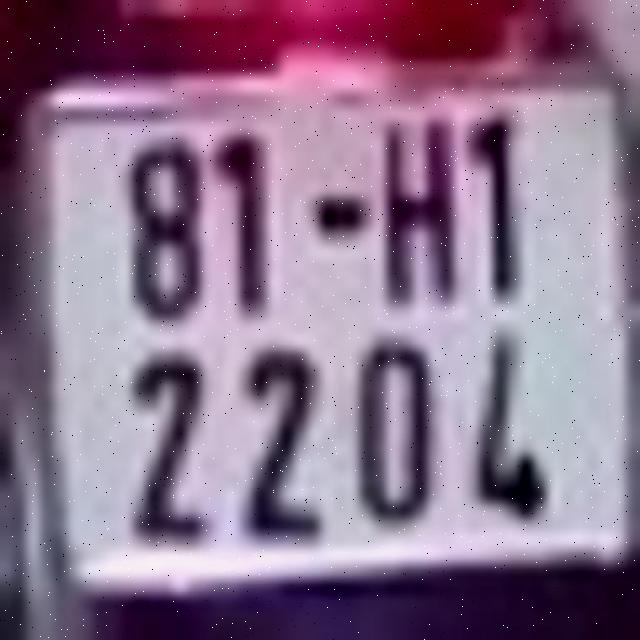0: (356, 336, 432, 526)
1: (214, 130, 274, 315), (468, 114, 520, 303)
2: (243, 343, 324, 540), (128, 351, 208, 543)
4: (475, 329, 552, 524)
8: (129, 135, 203, 322)
H: (382, 115, 458, 309)
